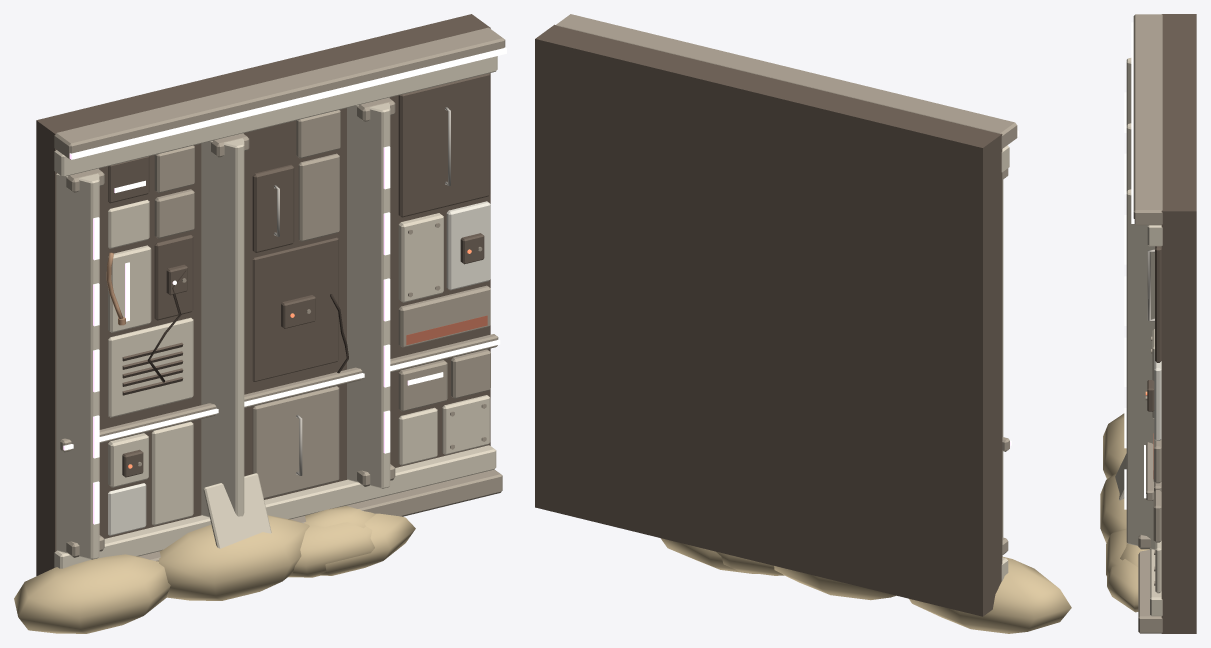
The model's file is wall_du_rib.glb.
3 renders of one model, left to right at view 1: azimuth 30°, elevation 25°; view 2: azimuth 150°, elevation 25°; view 3: azimuth 270°, elevation 25°, orthographic. The views are drawn at different scales.
Parts seen in each view (by area): view 1: wall_du_rib; view 2: wall_du_rib; view 3: wall_du_rib.
Boxes of the visible parts, <box> form: wall_du_rib: <box>14,14,506,633</box>; wall_du_rib: <box>535,14,1071,633</box>; wall_du_rib: <box>1100,14,1196,633</box>.
Size of the model in its own units: 4.48 by 4.34 by 0.8247.
